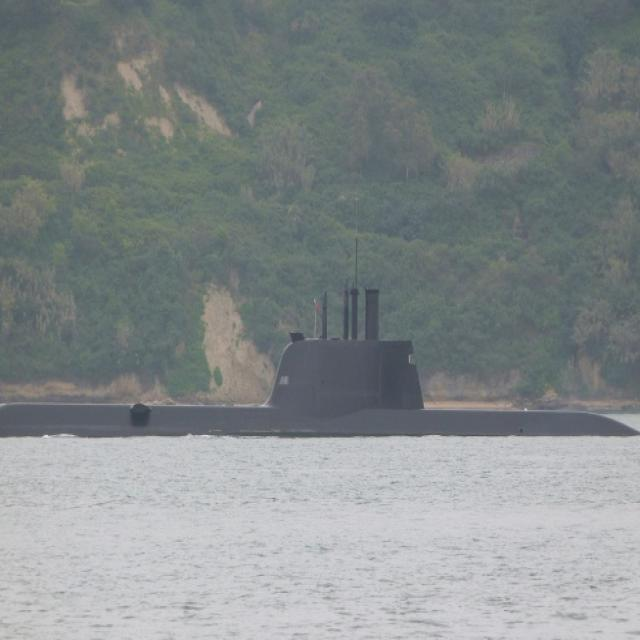submarine: (1, 288, 640, 440)
